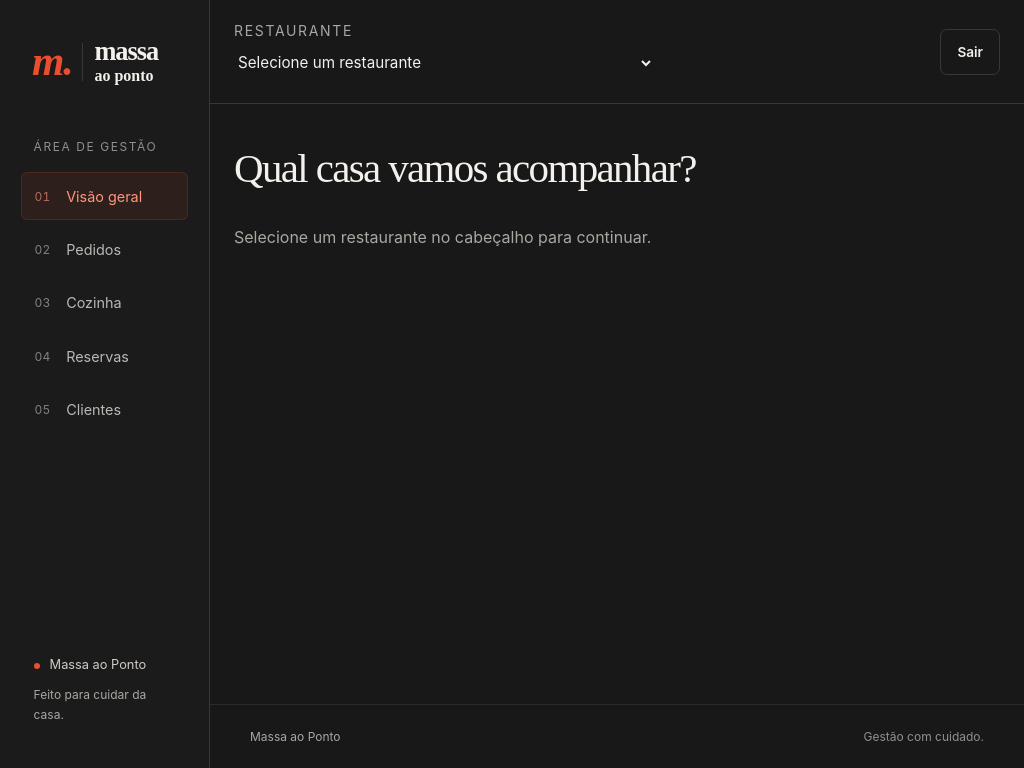
Test: Dashboard overview › waits for an authorized restaurant and discards late results when it changes
Check: the heading "Qual casa vamos acompanhar?" is shown, box [234,145,696,191]
Select "Centro" in the dropdown labelled "RESTAURANTE". click: (444, 63)
box: [234,45,654,81]
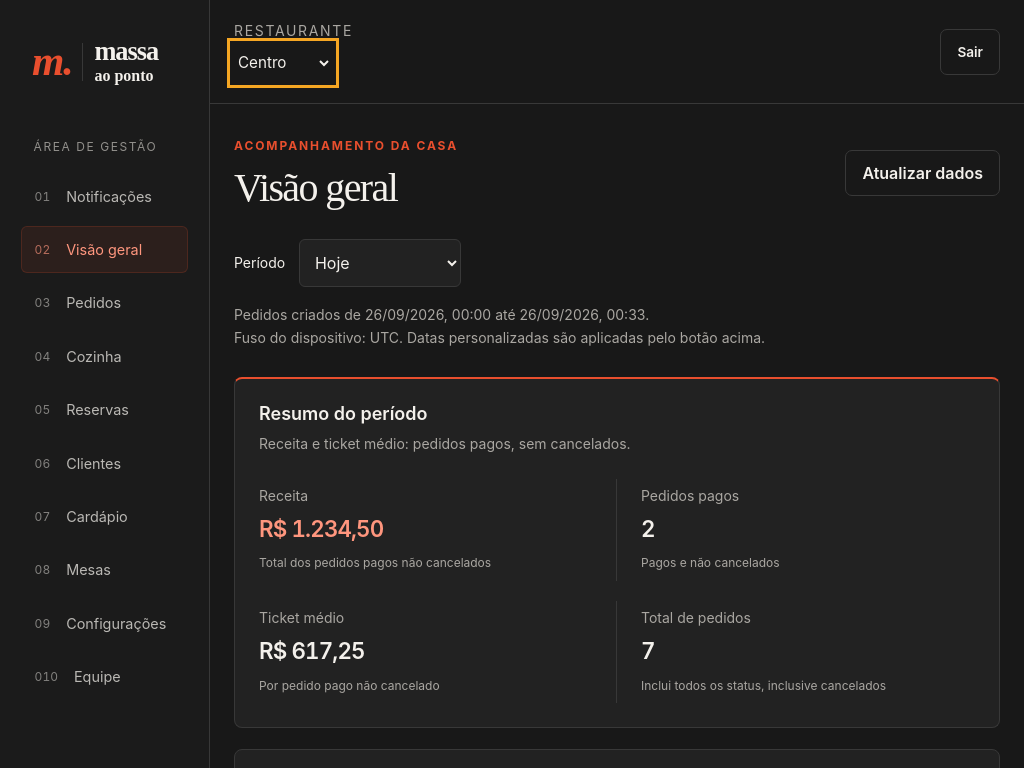
Select "Norte" in the dropdown labelled "RESTAURANTE". click: (283, 63)
box: [234,45,332,81]
(page scrolled)
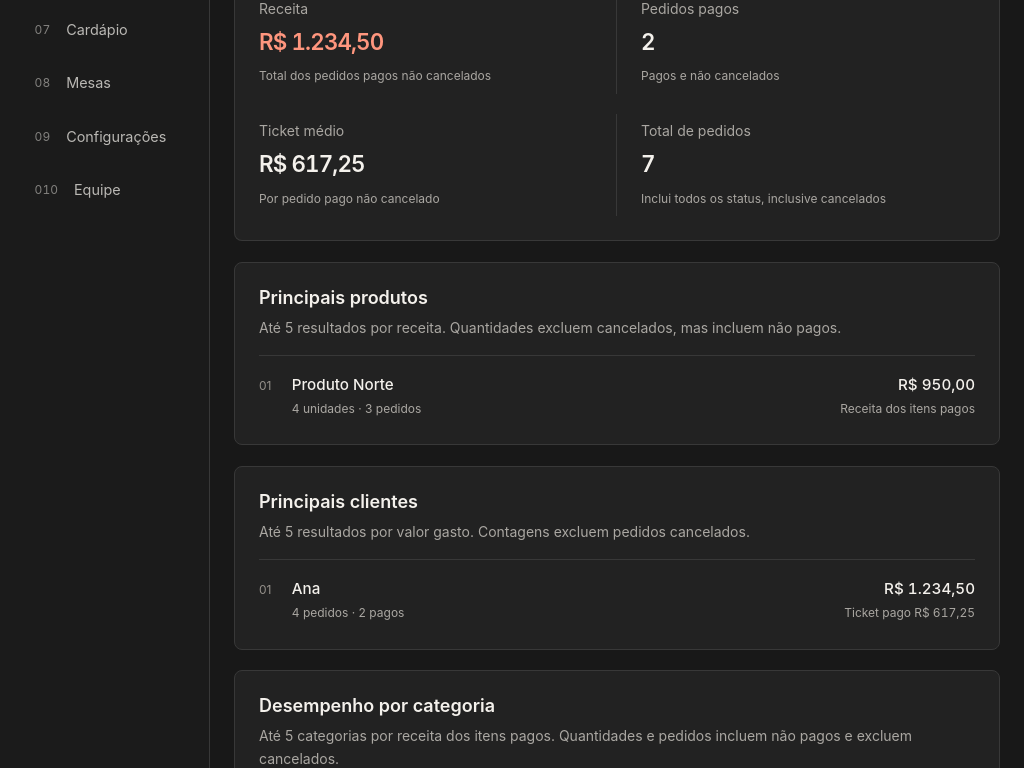
Check: the text "Produto Norte" is shown, box [292,375,394,394]
